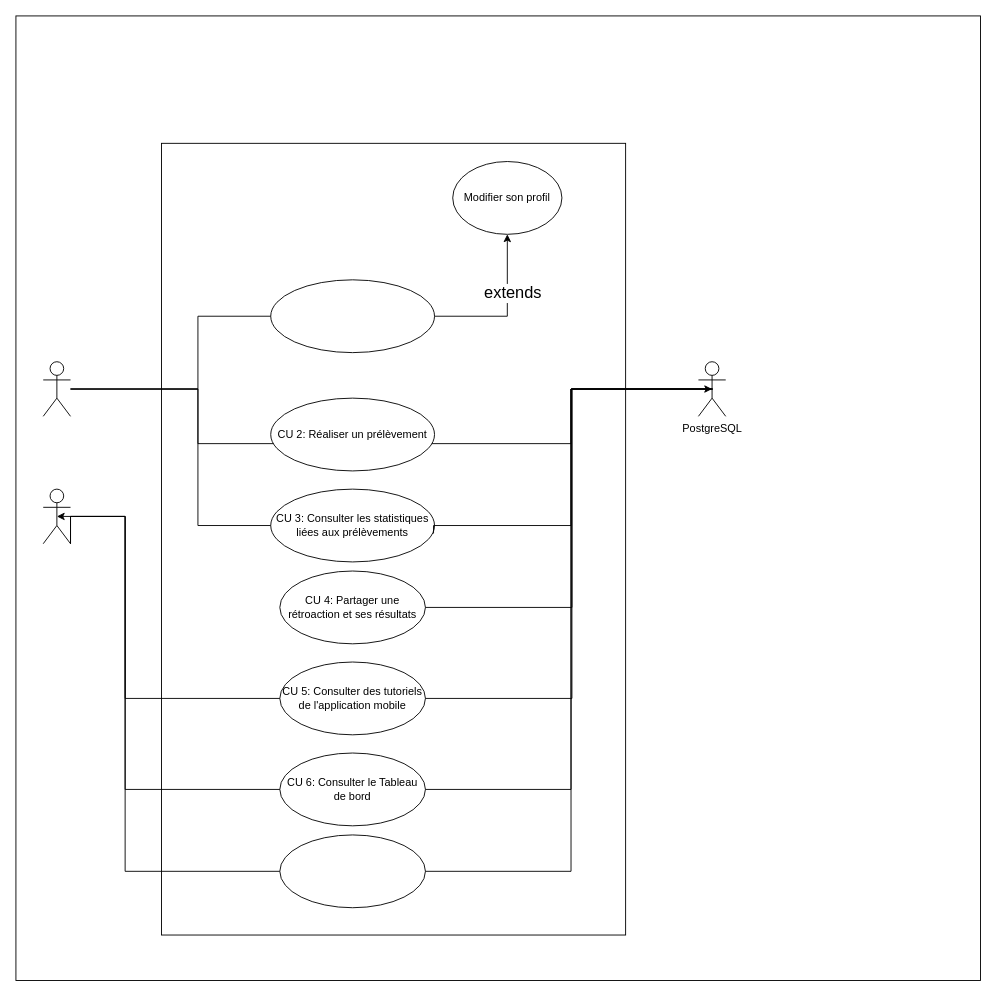
The diagram is 996 pixels wide and 996 high, and some of its shapes have lost their labels. The centre of each missing label's shape, as x and y in pixels:
"Administrateur sur le site Web" goes at point 56,516.
"CU 1: Accéder aux paramètres de compte" goes at point 352,316.
"CU 7: Consulter la carte du monde" goes at point 352,871.
"Utilisateur" goes at point 56,388.
